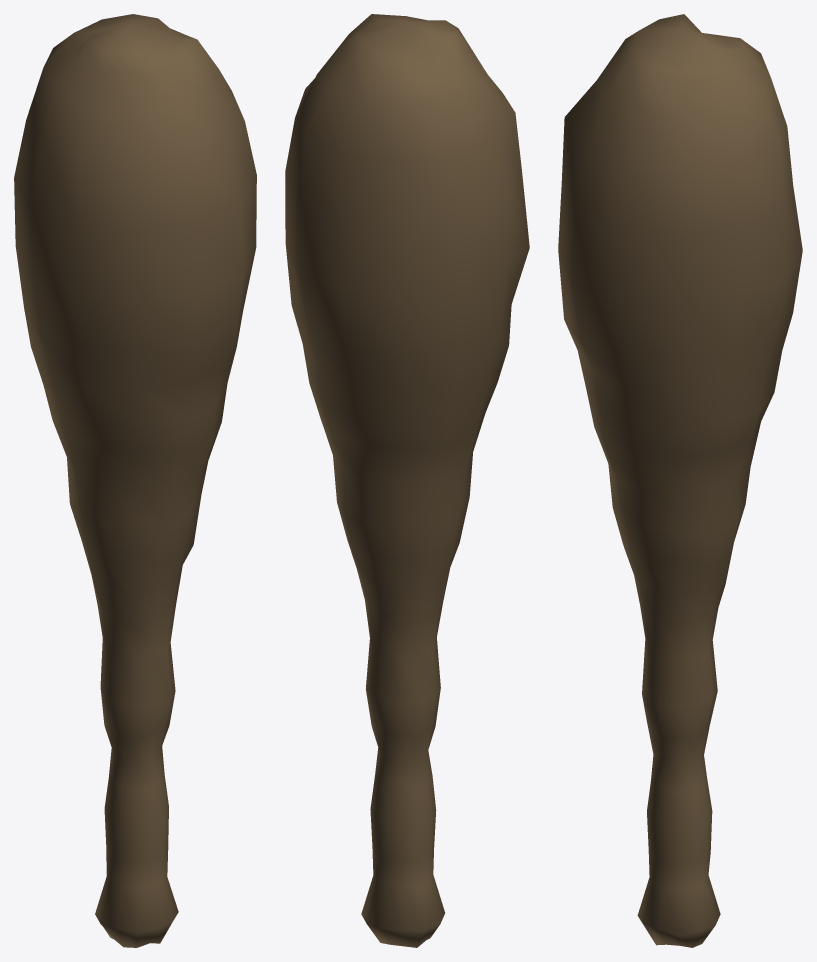
Rendered from club.fbx.
The picture shows the model from 3 angles, left to right: view 1: azimuth 30°, elevation 25°; view 2: azimuth 150°, elevation 25°; view 3: azimuth 270°, elevation 25°; orthographic projection.
Visible parts, largest first — view 1: club; view 2: club; view 3: club.
Boxes of the visible parts, x1=… form: club: x1=14, y1=14, x2=256, y2=947; club: x1=285, y1=14, x2=529, y2=947; club: x1=558, y1=14, x2=802, y2=947.
Size of the model in its own units: 11.64 by 49.15 by 11.98.
